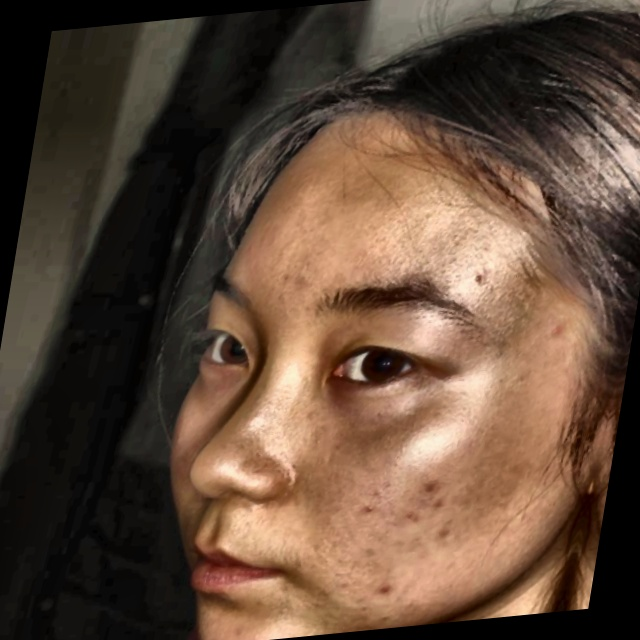comedone: (546, 315, 587, 351), (372, 574, 404, 601)
